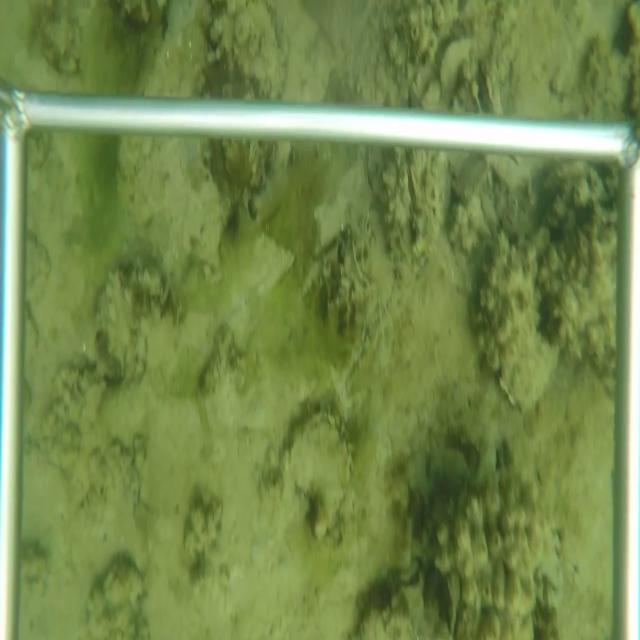Oyster-Indeterminate: (473, 230, 560, 422), (276, 407, 358, 548)
Oyster-Open: (392, 559, 426, 637)
